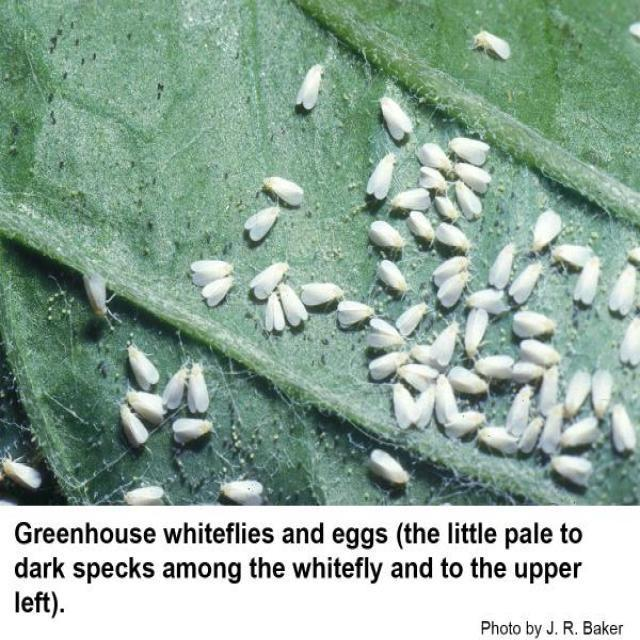Whiteflies: (241, 254, 320, 338), (256, 160, 327, 228), (371, 69, 429, 151), (78, 244, 129, 336), (276, 48, 327, 136), (170, 241, 236, 304), (356, 140, 409, 202), (430, 250, 483, 309), (1, 441, 53, 501), (455, 130, 505, 192), (361, 249, 422, 299), (569, 233, 604, 315), (300, 273, 365, 316), (364, 339, 423, 386), (184, 357, 222, 429), (161, 359, 201, 426), (237, 192, 280, 250), (537, 445, 601, 483), (166, 415, 230, 453), (114, 407, 158, 461), (386, 371, 420, 438), (368, 439, 408, 493), (434, 198, 472, 253), (126, 383, 179, 422), (363, 215, 412, 257), (122, 341, 162, 391), (594, 365, 625, 429), (430, 317, 468, 369), (456, 180, 498, 227), (114, 480, 172, 514), (209, 480, 267, 513), (467, 23, 507, 68), (433, 376, 462, 436), (489, 241, 521, 295), (524, 190, 555, 240), (340, 296, 383, 329), (560, 367, 590, 409), (401, 362, 443, 390)
